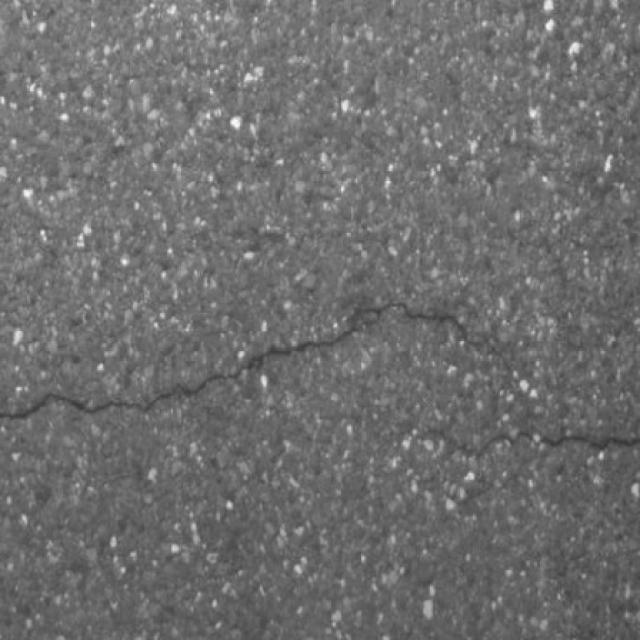Alligator Crack: (1, 300, 529, 427)
Horizontal Crack: (418, 424, 640, 467)
